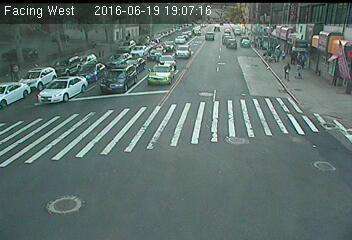neg: (139, 57, 170, 98), (192, 58, 218, 93), (304, 36, 322, 60), (105, 66, 121, 87)
pos: (6, 61, 20, 81), (279, 61, 293, 80), (293, 62, 306, 79)
